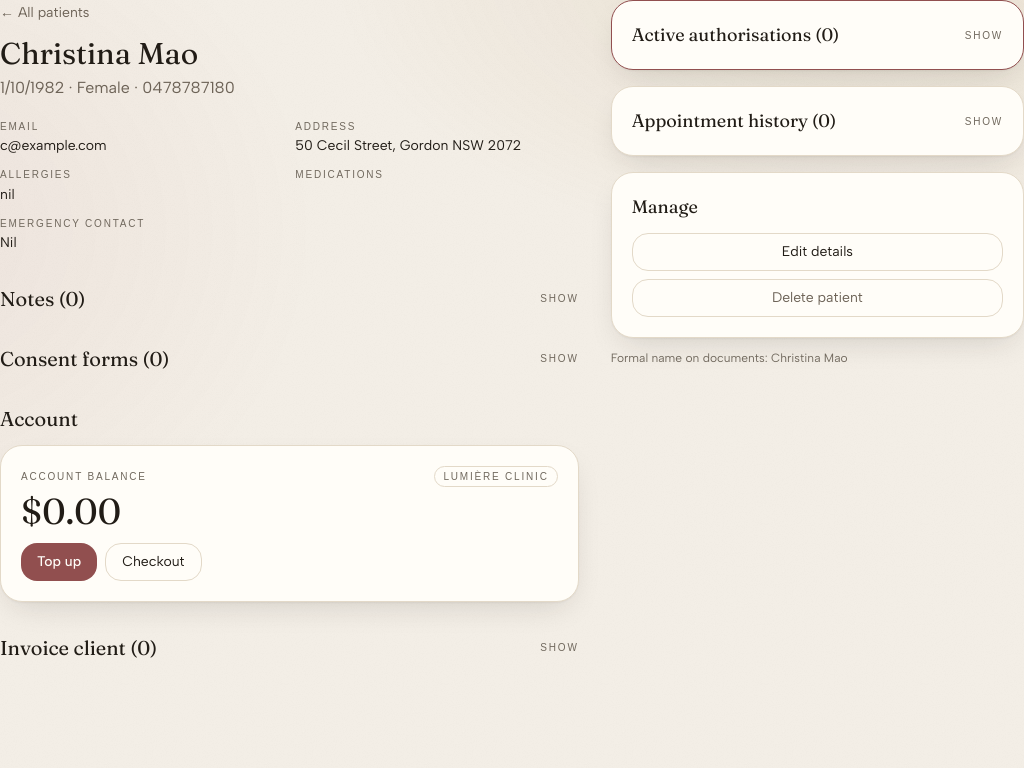
Scenario: patient file — note composer pills › falls back to General note for a viewer who cannot write treatment notes
The image size is (1024, 768).
Click the button "Notes (0) Show" at (33, 298), box [0,285,579,313]
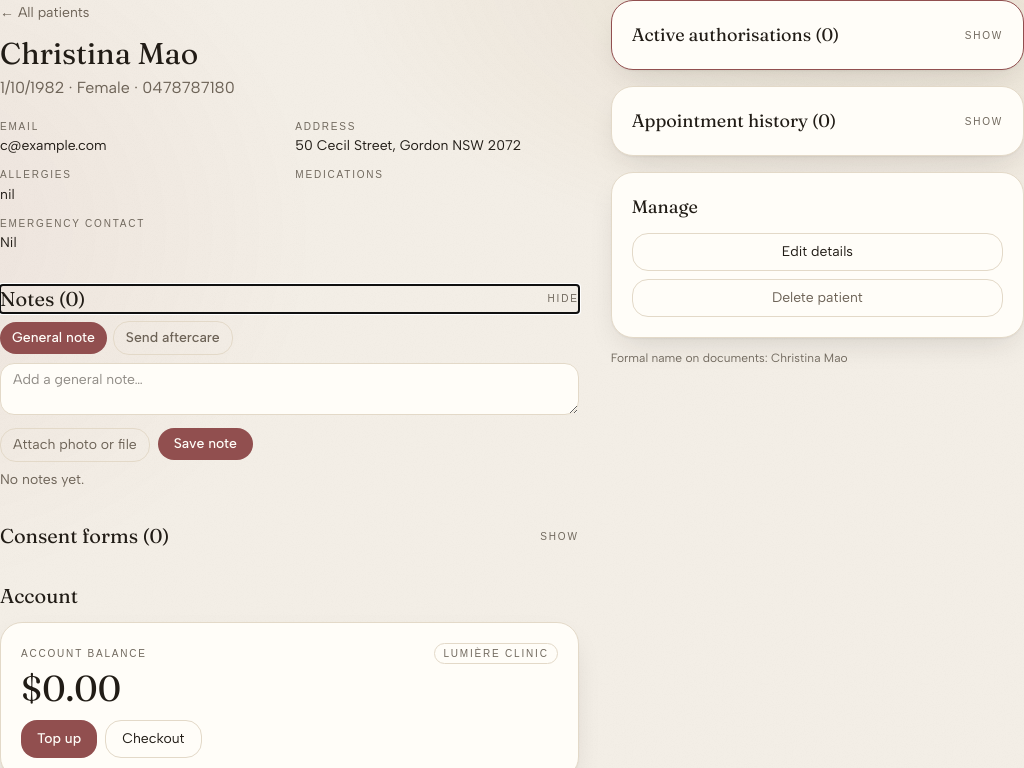
Now the text box with placeholder "Add a general note…" is shown, box [0,363,579,415]
